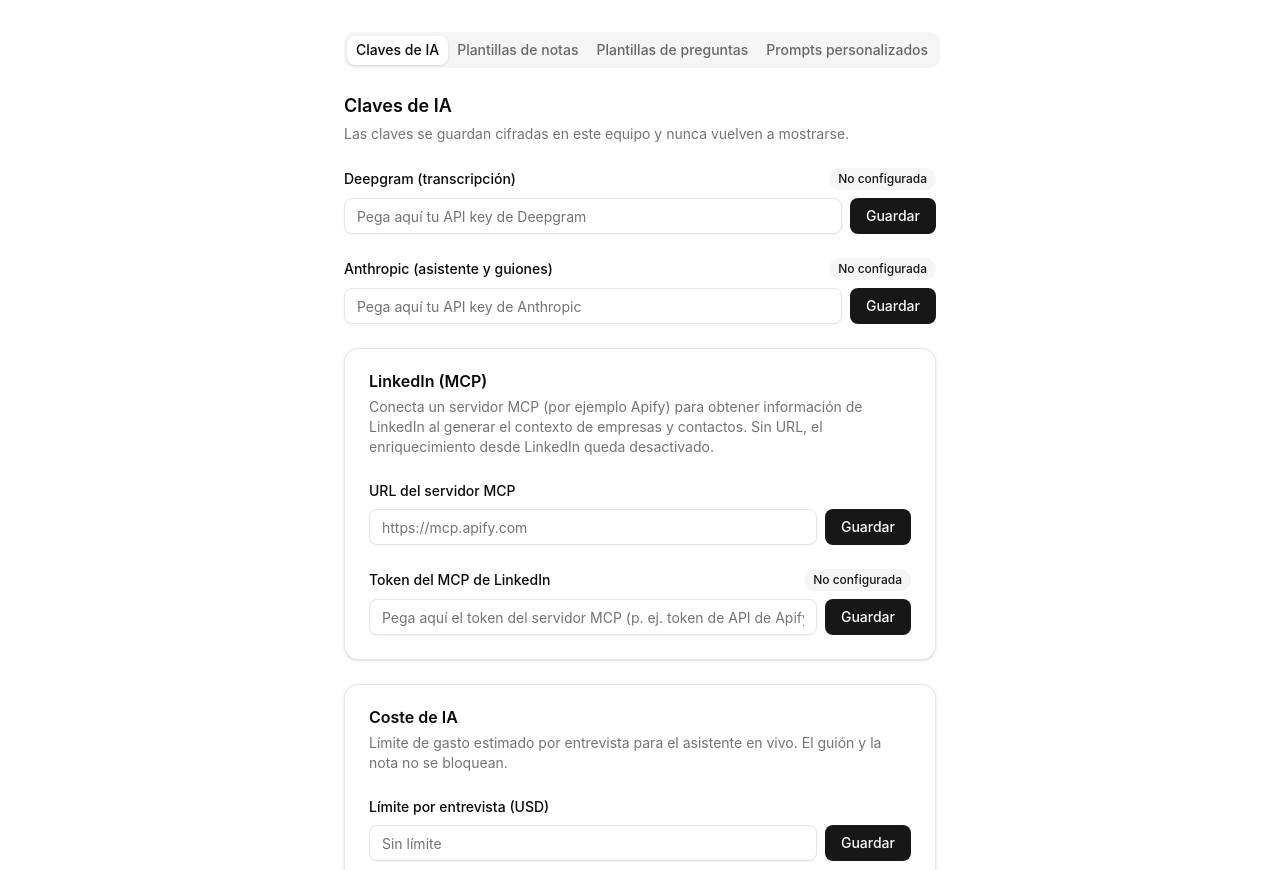
SettingsPage › saving a key › shows the "Clave de Deepgram guardada" toast and the "Configurada ····abcd" status after a successful save
Type "sk-deepgram-secreta-abcd" into the password field named "Deepgram (transcripción)". click: (593, 216)
box: [344,198,842,234]
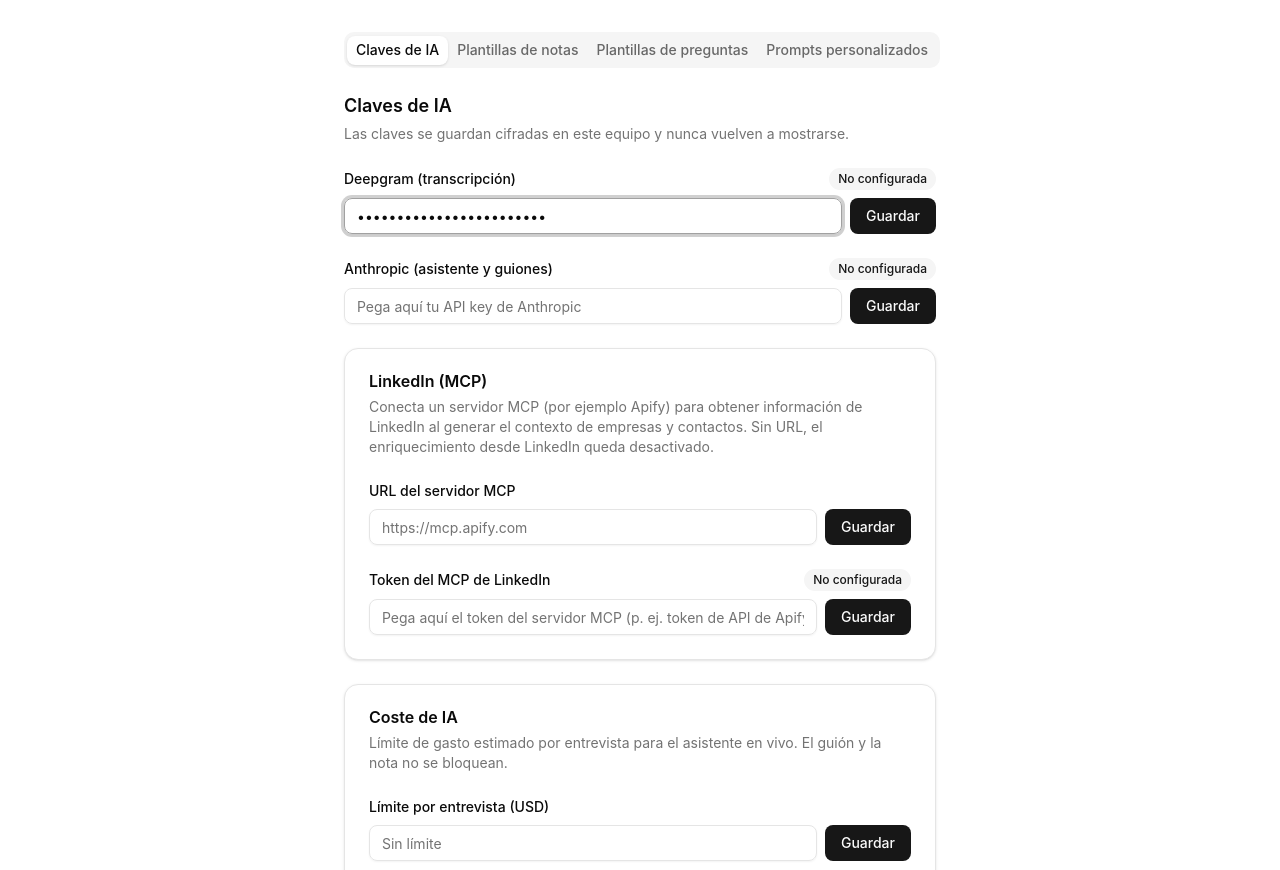
Click the 1st button "Guardar". click: (893, 216)
box: [850,198,936,234]
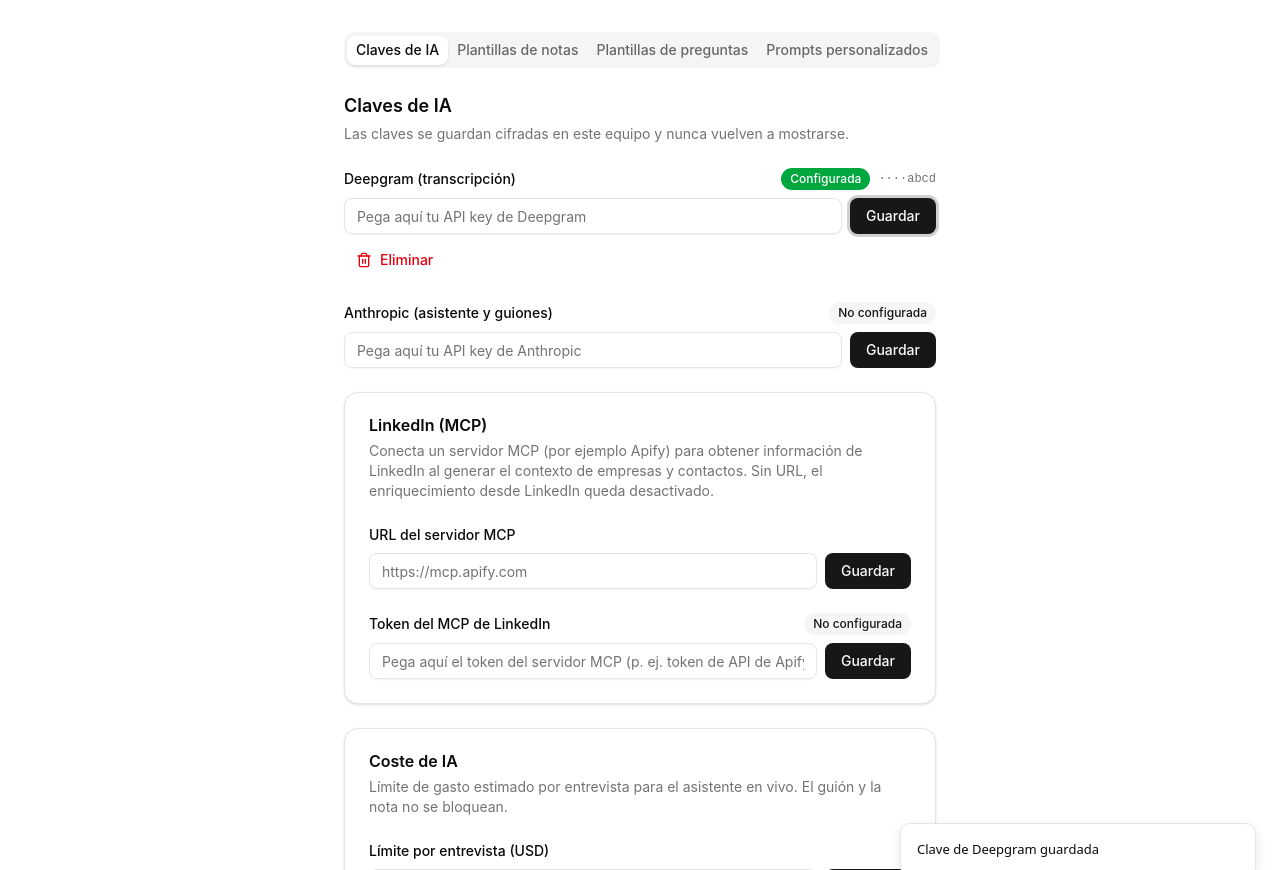
Expected: the text "Configurada" is shown, [781,168,870,190]
Expected: the text "····abcd" is shown, [878,171,936,187]
Expected: the password field named "Deepgram (transcripción)" is empty, [344,198,842,234]
